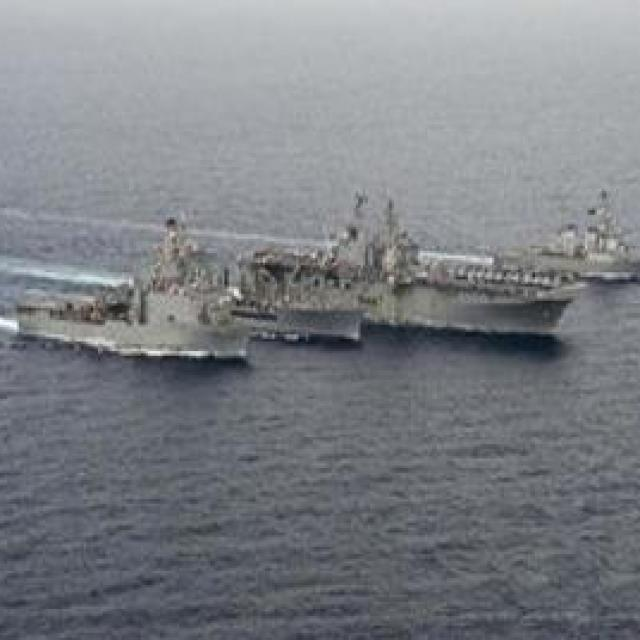navalvessels: (336, 196, 566, 350), (36, 236, 273, 379), (218, 248, 397, 376), (532, 174, 640, 281)
